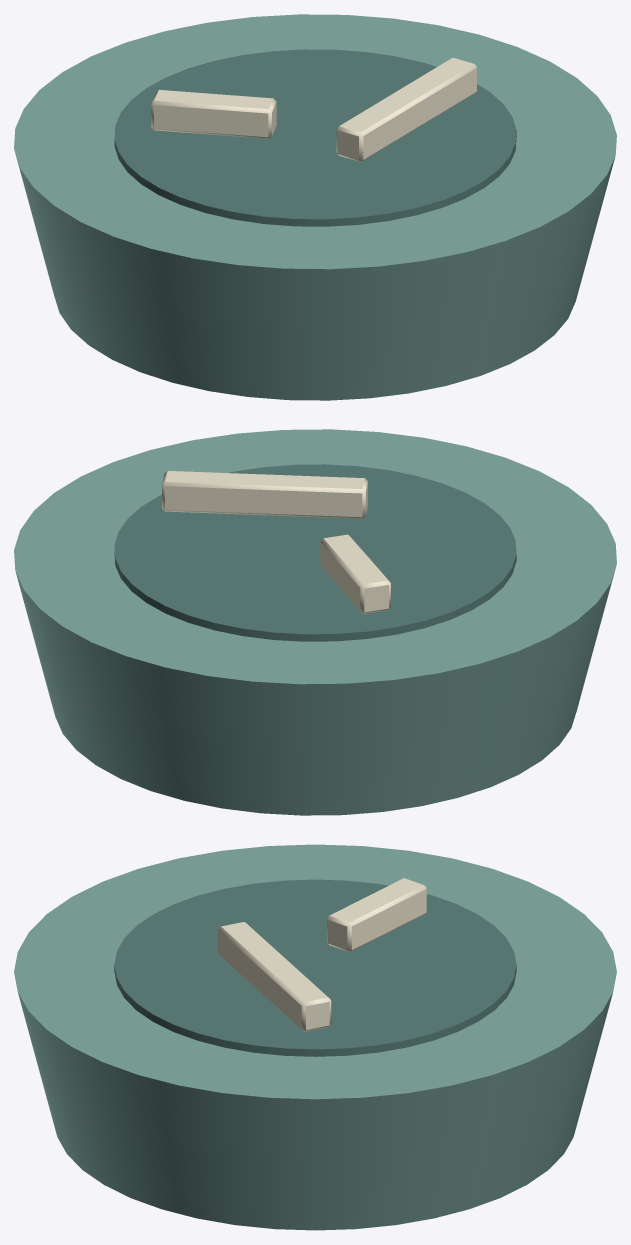
Rendered from GatTan_ThuyTinh.glb.
3 views of the same model, one above another, from view 1: azimuth 30°, elevation 25°; view 2: azimuth 150°, elevation 25°; view 3: azimuth 270°, elevation 25° (orthographic).
Parts seen in each view (by area): view 1: GatTan_ThuyTinh; view 2: GatTan_ThuyTinh; view 3: GatTan_ThuyTinh.
Part boxes in pixels (left/top/right/bottom): GatTan_ThuyTinh: left=14, top=14, right=616, bottom=400; GatTan_ThuyTinh: left=14, top=429, right=616, bottom=815; GatTan_ThuyTinh: left=14, top=844, right=616, bottom=1230.
Bounding box in the file's own units: 0.1476 × 0.052 × 0.1476.
